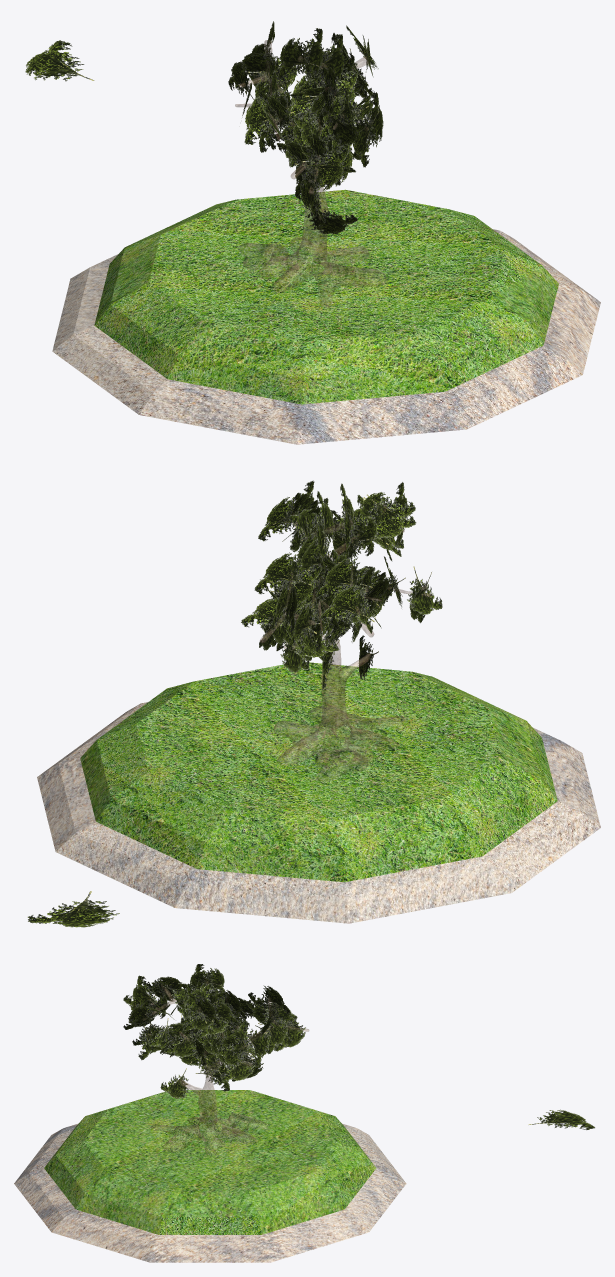
Rendered from arbol.fbx.
3 views of the same model, one above another, from view 1: azimuth 30°, elevation 25°; view 2: azimuth 150°, elevation 25°; view 3: azimuth 270°, elevation 25° (orthographic). The views are drawn at different scales.
Parts seen in each view (by area): view 1: Cilindro, Plano, Plano.001, Plano|Plano.001|Dupli|94, Plano|Plano.001|Dupli|58, Plano|Plano.001|Dupli|101, Plano|Plano.001|Dupli|88, Plano|Plano.001|Dupli|1, Plano|Plano.001|Dupli|57, Plano|Plano.001|Dupli|56, Plano|Plano.001|Dupli|89, Plano|Plano.001|Dupli|95 (+1 smaller); view 2: Cilindro, Plano, Plano.001, Plano|Plano.001|Dupli|78, Plano|Plano.001|Dupli|45, Plano|Plano.001|Dupli|44, Plano|Plano.001|Dupli|50, Plano|Plano.001|Dupli|95, Plano|Plano.001|Dupli|66, Plano|Plano.001|Dupli|80, Plano|Plano.001|Dupli|77, Plano|Plano.001|Dupli|64 (+1 smaller); view 3: Cilindro, Plano, Plano.001, Plano|Plano.001|Dupli|18, Plano|Plano.001|Dupli|71, Plano|Plano.001|Dupli|32, Plano|Plano.001|Dupli|1, Plano|Plano.001|Dupli|87, Plano|Plano.001|Dupli|29, Plano|Plano.001|Dupli|49, Plano|Plano.001|Dupli|67, Plano|Plano.001|Dupli|82.
Part boxes in pixels (bbox=[...]): Cilindro: bbox=[52, 189, 600, 444]; Plano: bbox=[235, 40, 386, 306]; Plano.001: bbox=[25, 40, 94, 81]; Plano|Plano.001|Dupli|94: bbox=[294, 146, 348, 191]; Plano|Plano.001|Dupli|58: bbox=[278, 38, 318, 81]; Plano|Plano.001|Dupli|101: bbox=[244, 93, 293, 144]; Plano|Plano.001|Dupli|88: bbox=[321, 108, 365, 145]; Plano|Plano.001|Dupli|1: bbox=[302, 204, 357, 234]; Plano|Plano.001|Dupli|57: bbox=[301, 28, 322, 80]; Plano|Plano.001|Dupli|56: bbox=[319, 34, 344, 82]; Plano|Plano.001|Dupli|89: bbox=[353, 111, 379, 167]; Plano|Plano.001|Dupli|95: bbox=[300, 159, 319, 216]; Cilindro: bbox=[37, 662, 600, 923]; Plano: bbox=[260, 504, 431, 781]; Plano.001: bbox=[27, 891, 119, 927]; Plano|Plano.001|Dupli|78: bbox=[254, 552, 311, 594]; Plano|Plano.001|Dupli|45: bbox=[320, 585, 374, 623]; Plano|Plano.001|Dupli|44: bbox=[315, 557, 372, 600]; Plano|Plano.001|Dupli|50: bbox=[258, 497, 305, 541]; Plano|Plano.001|Dupli|95: bbox=[407, 566, 442, 614]; Plano|Plano.001|Dupli|66: bbox=[366, 494, 415, 532]; Plano|Plano.001|Dupli|80: bbox=[241, 598, 296, 628]; Plano|Plano.001|Dupli|77: bbox=[269, 564, 321, 606]; Plano|Plano.001|Dupli|64: bbox=[363, 497, 416, 537]; Cilindro: bbox=[14, 1090, 406, 1262]; Plano: bbox=[143, 981, 308, 1154]; Plano.001: bbox=[528, 1109, 595, 1130]; Plano|Plano.001|Dupli|18: bbox=[164, 1032, 196, 1056]; Plano|Plano.001|Dupli|71: bbox=[247, 1029, 269, 1066]; Plano|Plano.001|Dupli|32: bbox=[220, 1054, 254, 1081]; Plano|Plano.001|Dupli|1: bbox=[160, 1068, 189, 1098]; Plano|Plano.001|Dupli|87: bbox=[132, 975, 156, 1007]; Plano|Plano.001|Dupli|29: bbox=[231, 1020, 252, 1060]; Plano|Plano.001|Dupli|49: bbox=[184, 983, 213, 1023]; Plano|Plano.001|Dupli|67: bbox=[128, 1000, 154, 1027]; Plano|Plano.001|Dupli|82: bbox=[274, 1018, 305, 1051].
Size of the model in its own units: 1193 by 801 by 1875.
